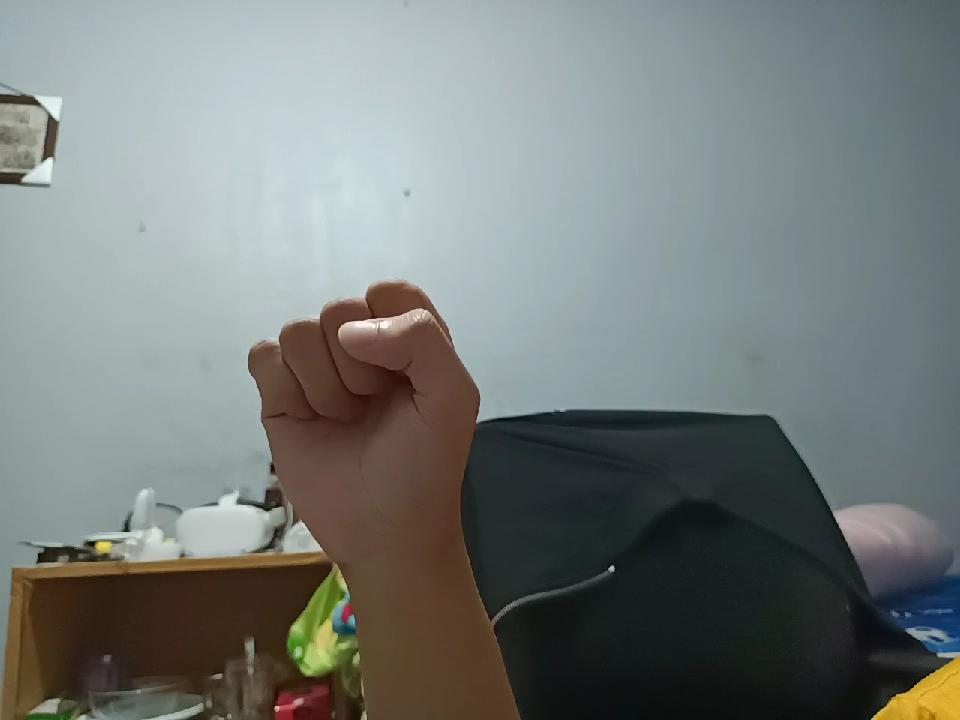rock: (250, 253, 466, 557)
